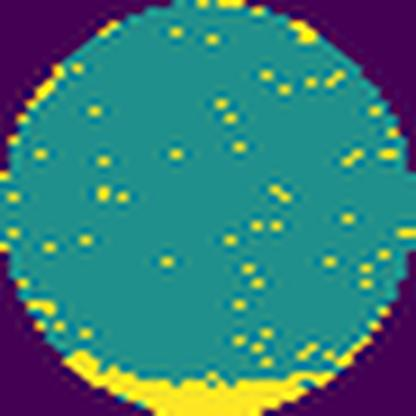Edge-Loc: (49, 341, 379, 416)
